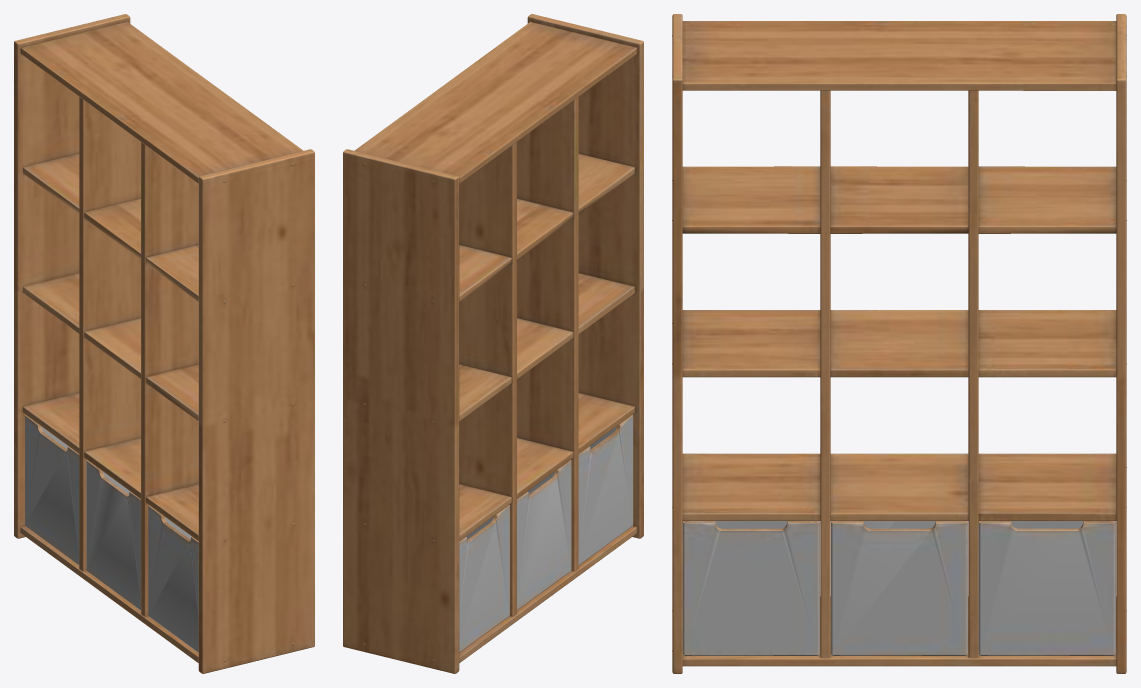
Rendered from shelf_display.glb.
3 renders of one model, left to right at view 1: azimuth 30°, elevation 25°; view 2: azimuth 150°, elevation 25°; view 3: azimuth 270°, elevation 25°, orthographic. The views are drawn at different scales.
Visible parts, largest first — view 1: wooden_display_shelves_01, wooden_display_shelves_01_drawer_01, wooden_display_shelves_01_drawer_02, wooden_display_shelves_01_drawer_03; view 2: wooden_display_shelves_01, wooden_display_shelves_01_drawer_03, wooden_display_shelves_01_drawer_02, wooden_display_shelves_01_drawer_01; view 3: wooden_display_shelves_01, wooden_display_shelves_01_drawer_01, wooden_display_shelves_01_drawer_03, wooden_display_shelves_01_drawer_02.
Boxes of the visible parts, x1,y1,x2,y2 form: wooden_display_shelves_01: (14, 14, 314, 673); wooden_display_shelves_01_drawer_01: (25, 415, 79, 565); wooden_display_shelves_01_drawer_02: (86, 460, 140, 610); wooden_display_shelves_01_drawer_03: (148, 505, 198, 652); wooden_display_shelves_01: (343, 14, 643, 673); wooden_display_shelves_01_drawer_03: (578, 415, 633, 565); wooden_display_shelves_01_drawer_02: (517, 460, 571, 610); wooden_display_shelves_01_drawer_01: (459, 505, 509, 652); wooden_display_shelves_01: (672, 14, 1126, 673); wooden_display_shelves_01_drawer_01: (978, 521, 1115, 655); wooden_display_shelves_01_drawer_03: (682, 521, 819, 655); wooden_display_shelves_01_drawer_02: (831, 521, 967, 655).
Bounding box in the file's own units: 0.3715 × 1.56 × 1.08.
Materials: 1 (1 with a texture image).
